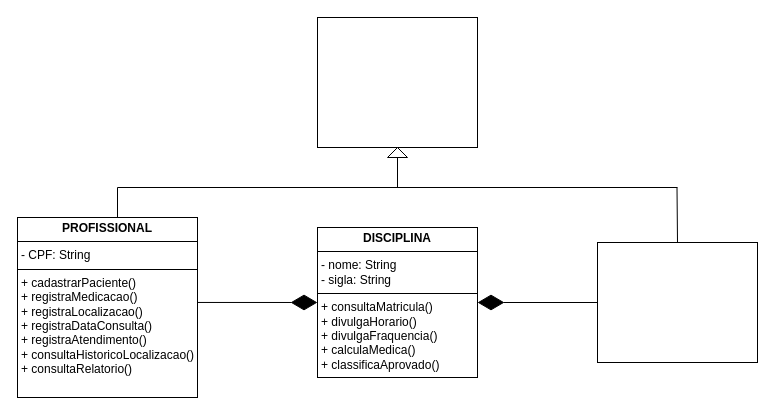
Some shapes in this 775 by 415 pixel diagram are drawn without their labels. Each missing label, with the centre of its shape:
"PACIENTE - CartaoSUS: String" goes at point (677, 302).
"PESSOA - nome : String - cpf: String - emai : String - telefone : String" goes at point (397, 82).
